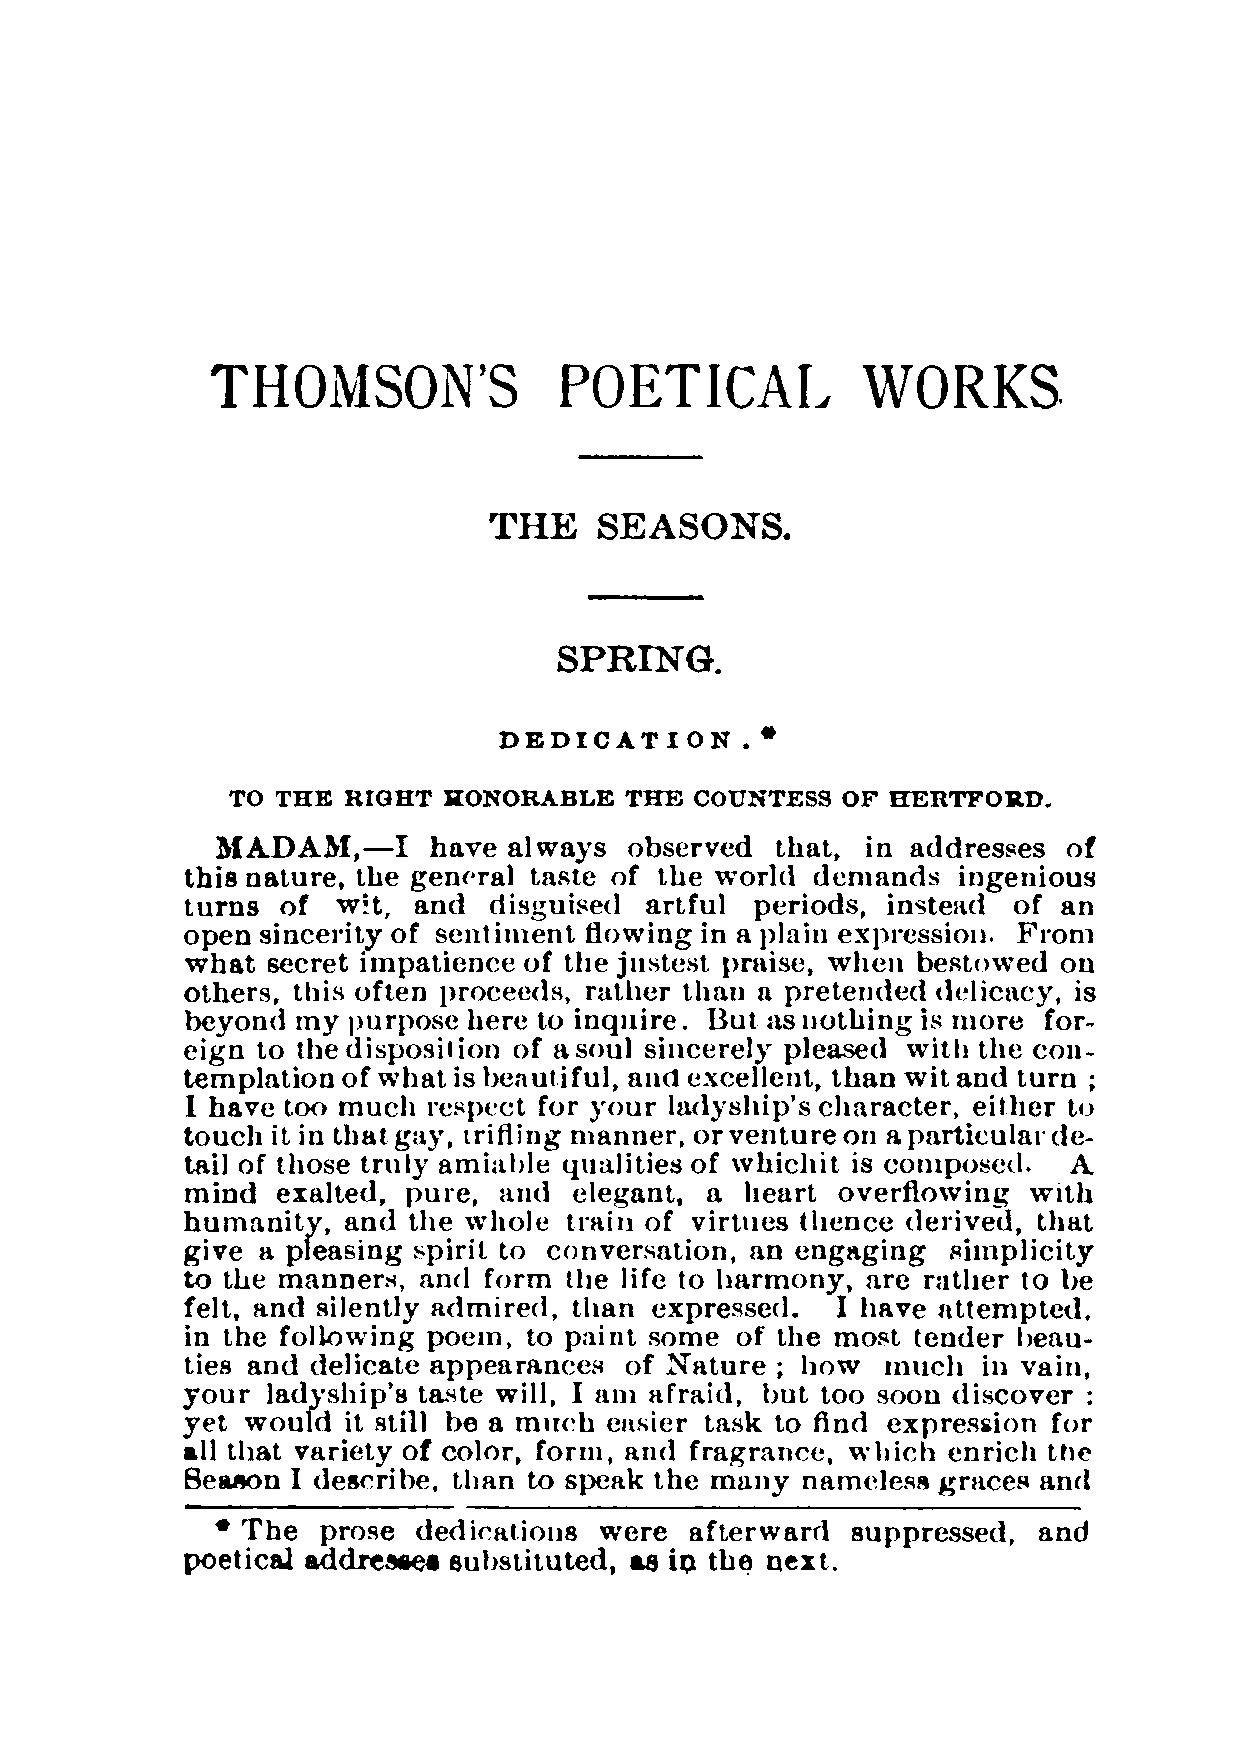chapter: (225, 726, 1051, 809), (484, 509, 792, 678), (207, 360, 1062, 413)
content: (180, 831, 1096, 1580)
